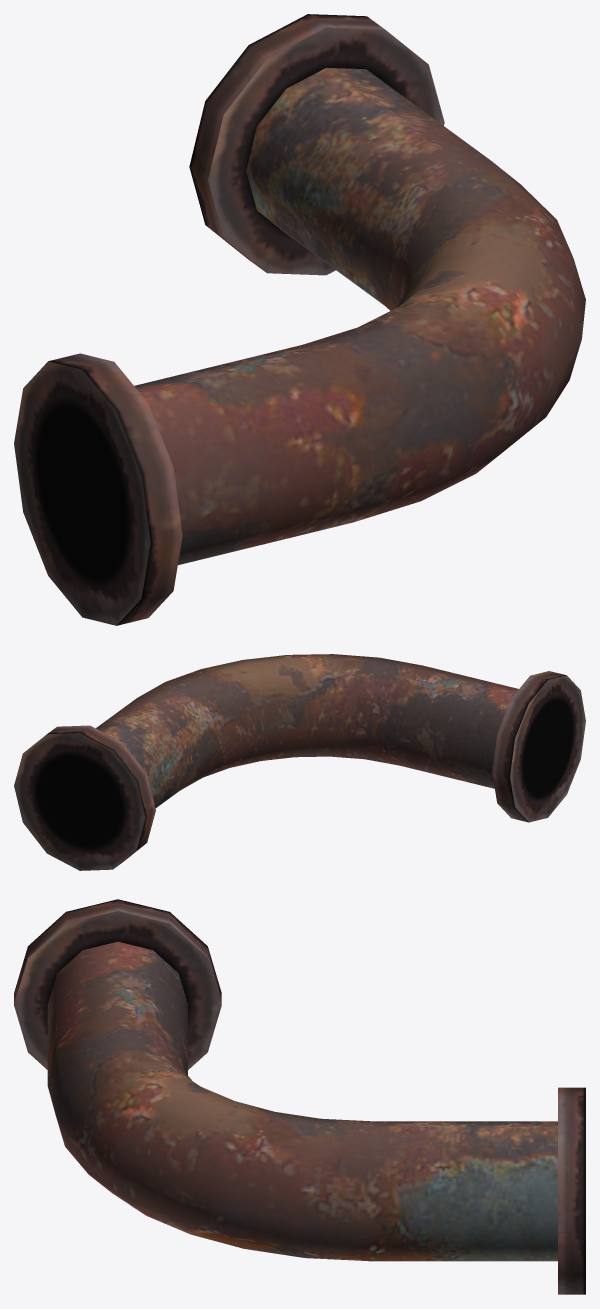
The model's file is pipe01_L.fbx.
3 views of the same model, one above another, from view 1: azimuth 30°, elevation 25°; view 2: azimuth 150°, elevation 25°; view 3: azimuth 270°, elevation 25° (orthographic). The views are drawn at different scales.
Parts seen in each view (by area): view 1: pipe01_L; view 2: pipe01_L; view 3: pipe01_L.
Boxes of the visible parts, box(x1,y1,x2,y2) form: pipe01_L: box(14, 14, 585, 625); pipe01_L: box(14, 654, 585, 870); pipe01_L: box(14, 899, 585, 1294).
Bounding box in the file's own units: 61.1 × 22.2 × 61.1.
